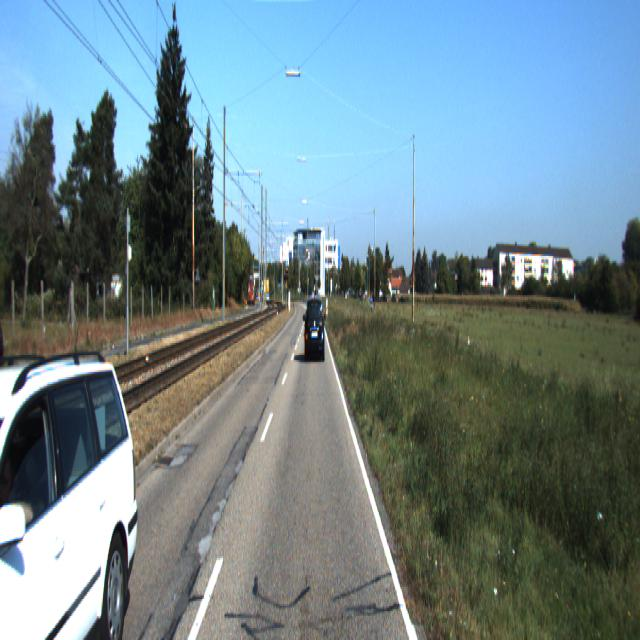Car: (0, 341, 149, 639), (305, 295, 325, 362)
